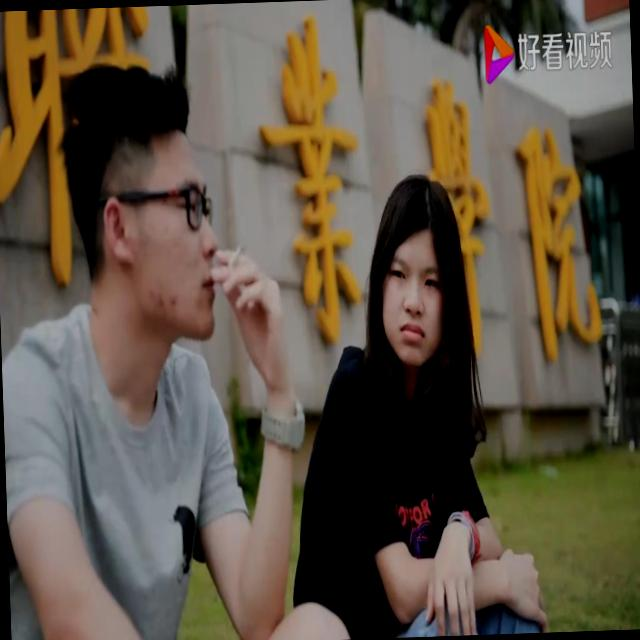cigarette: (220, 234, 250, 282)
